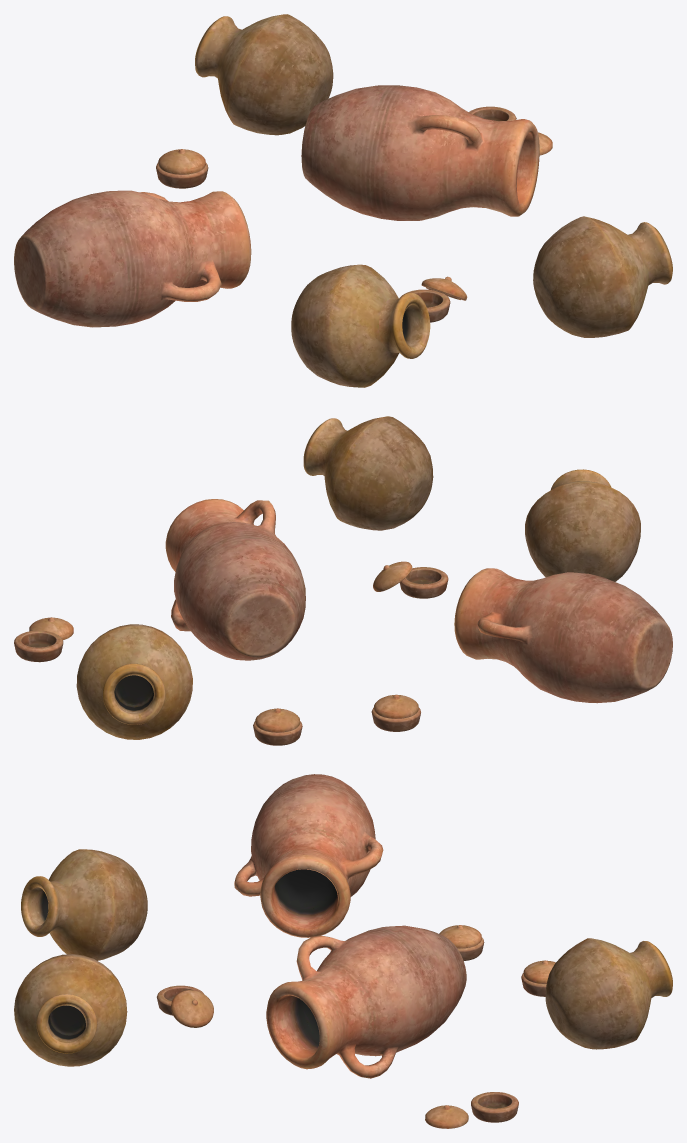
The picture shows the model from 3 angles, top to bottom: view 1: azimuth 30°, elevation 25°; view 2: azimuth 150°, elevation 25°; view 3: azimuth 270°, elevation 25°; orthographic projection. The views are drawn at different scales.
Visible parts, largest first — view 1: SM_Moon_Garou_Vases_Set_05v1_LOD0; view 2: SM_Moon_Garou_Vases_Set_05v1_LOD0; view 3: SM_Moon_Garou_Vases_Set_05v1_LOD0.
Part boxes in pixels (x1,y1,x2,y2): SM_Moon_Garou_Vases_Set_05v1_LOD0: (14, 14, 672, 387); SM_Moon_Garou_Vases_Set_05v1_LOD0: (14, 416, 672, 745); SM_Moon_Garou_Vases_Set_05v1_LOD0: (14, 774, 672, 1128).
Bounding box in the file's own units: 3.68 × 0.735 × 3.86.
Materials: 1 (1 with a texture image).
